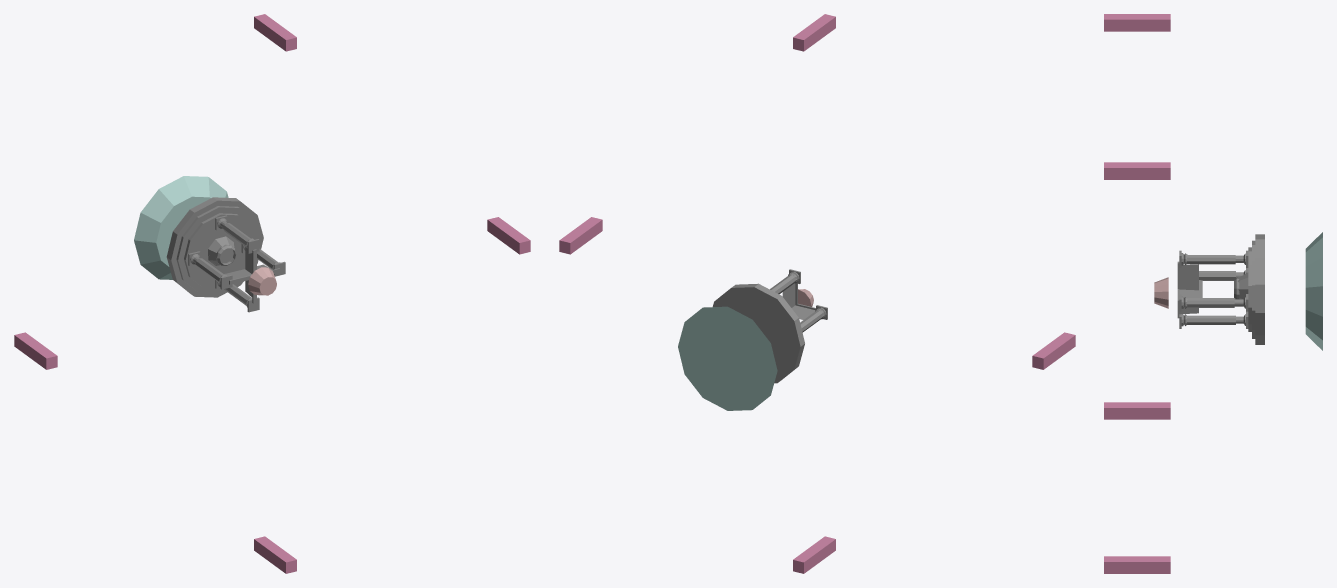
Rendered from ruins_TempleRuin_02.glb.
The picture shows the model from 3 angles, left to right: view 1: azimuth 30°, elevation 25°; view 2: azimuth 150°, elevation 25°; view 3: azimuth 270°, elevation 25°; orthographic projection. The views are drawn at different scales.
Visible parts, largest first — view 1: geometry_0; view 2: geometry_0; view 3: geometry_0.
Part boxes in pixels (<box>): geometry_0: <box>14,14,530,573</box>; geometry_0: <box>559,14,1075,573</box>; geometry_0: <box>1104,14,1322,573</box>.
Size of the model in its own units: 8.8 by 9.27 by 3.32.
